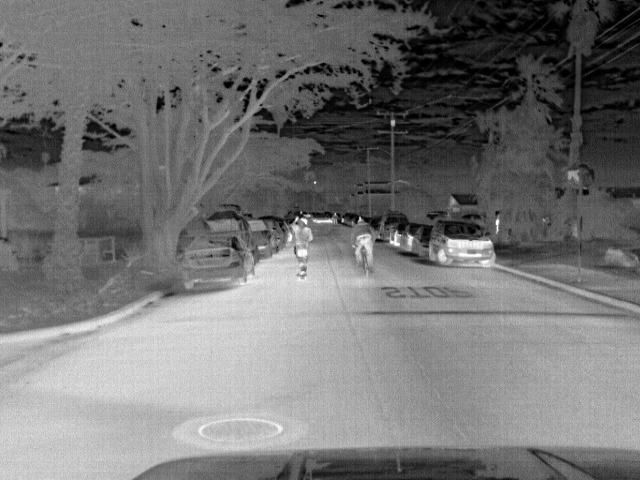car: (179, 236, 248, 292), (428, 220, 498, 266), (206, 211, 257, 271), (248, 218, 280, 257), (374, 213, 406, 243), (411, 226, 434, 260), (398, 223, 422, 252), (461, 213, 484, 228), (390, 225, 405, 245)
person: (355, 219, 378, 278), (291, 216, 314, 268)
